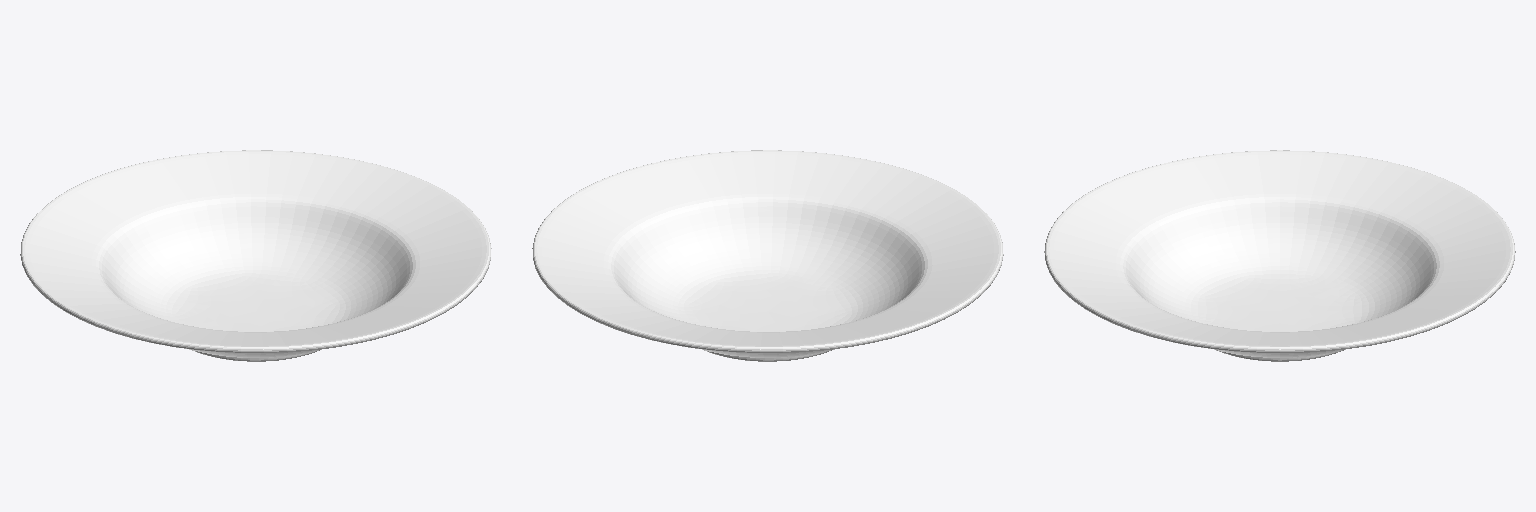
URDF robot description (spinning_plate.urdf):
<?xml version="1.0" ?>
<robot name="spinning_plate.urdf">
  <link name="spinning_plate">
    <inertial>
      <origin rpy="0 0 0" xyz="0 0 0"/>
       <mass value="0.4"/>
       <inertia ixx="1" ixy="0" ixz="0" iyy="1" iyz="0" izz="1"/>
    </inertial>
    <visual>
      <origin rpy="0 0 0" xyz="0 0 0"/>
      <geometry>
        <mesh filename="spinning_plate_tex.obj"/>
      </geometry>
      <material name="white">
       <color rgba="1.0 1.0 1.0 1.0"/>
     </material>
    </visual>
    <collision>
      <origin rpy="0 0 0" xyz="0 0 0"/>
      <geometry>
				<mesh filename="spinning_plate.obj"/>
      </geometry>
    </collision>
  </link>
</robot>

--- Facts derived from the render (not from the file) ---
The picture shows the robot from 3 angles, left to right: view 1: azimuth 30°, elevation 25°; view 2: azimuth 150°, elevation 25°; view 3: azimuth 270°, elevation 25°; orthographic projection.
Robot: spinning_plate.urdf — 1 links, 0 joints (none); root link spinning_plate; default pose: all joints at 0.
Visible links, largest first — view 1: spinning_plate; view 2: spinning_plate; view 3: spinning_plate.
Link boxes in pixels (x1,y1,x2,y2): spinning_plate: (20,150,491,361); spinning_plate: (532,150,1003,361); spinning_plate: (1044,150,1515,361).
Bounding box of the posed robot: 0.151 × 0.151 × 0.0267 m (x, y, z).
Meshes: 1 distinct files referenced, 1 mesh visuals loaded (1 OBJ).